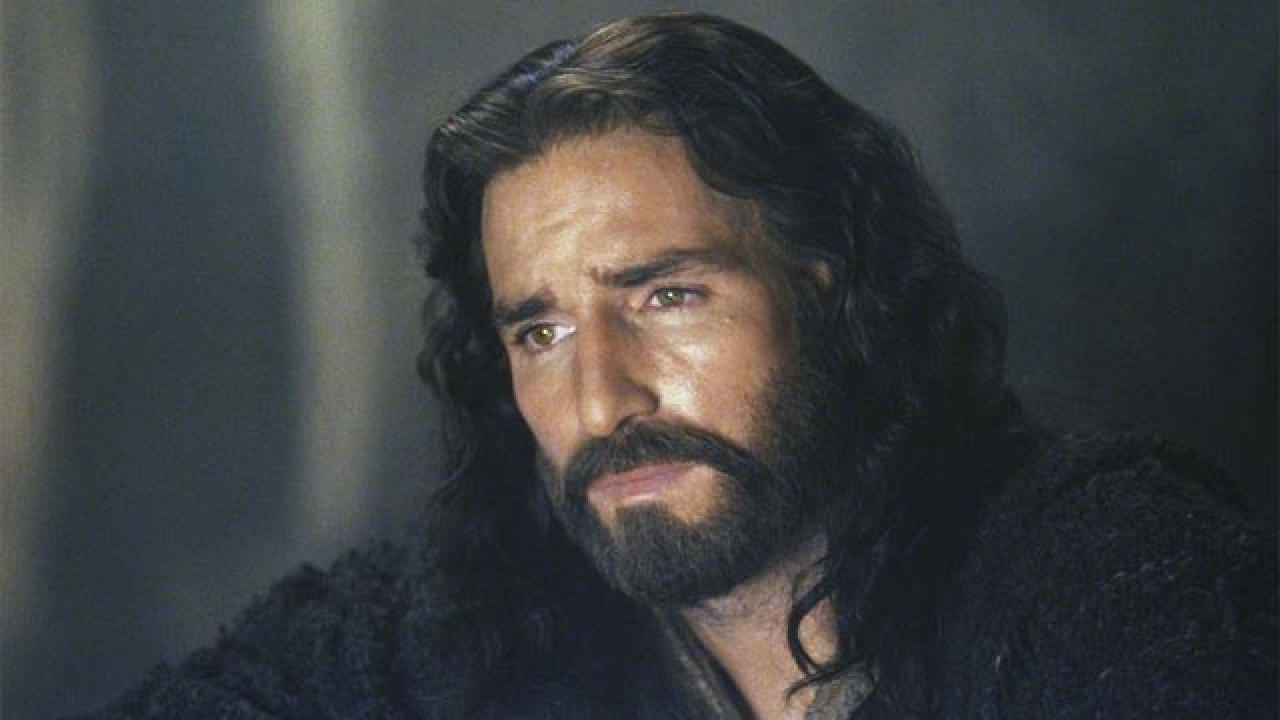bad: (418, 162, 803, 547)
